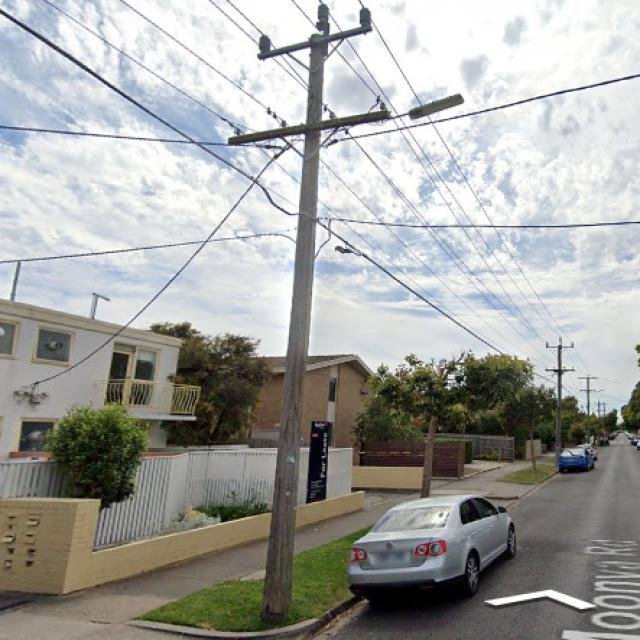HV-transmission: (256, 3, 373, 57), (546, 337, 574, 348)
crossarm: (227, 102, 391, 147), (258, 25, 373, 61), (544, 369, 576, 372), (545, 346, 574, 348), (578, 377, 597, 380), (579, 389, 596, 392)
streetlight: (393, 92, 466, 121)
timber-pole: (260, 33, 325, 616), (554, 345, 562, 464), (584, 375, 590, 444)
